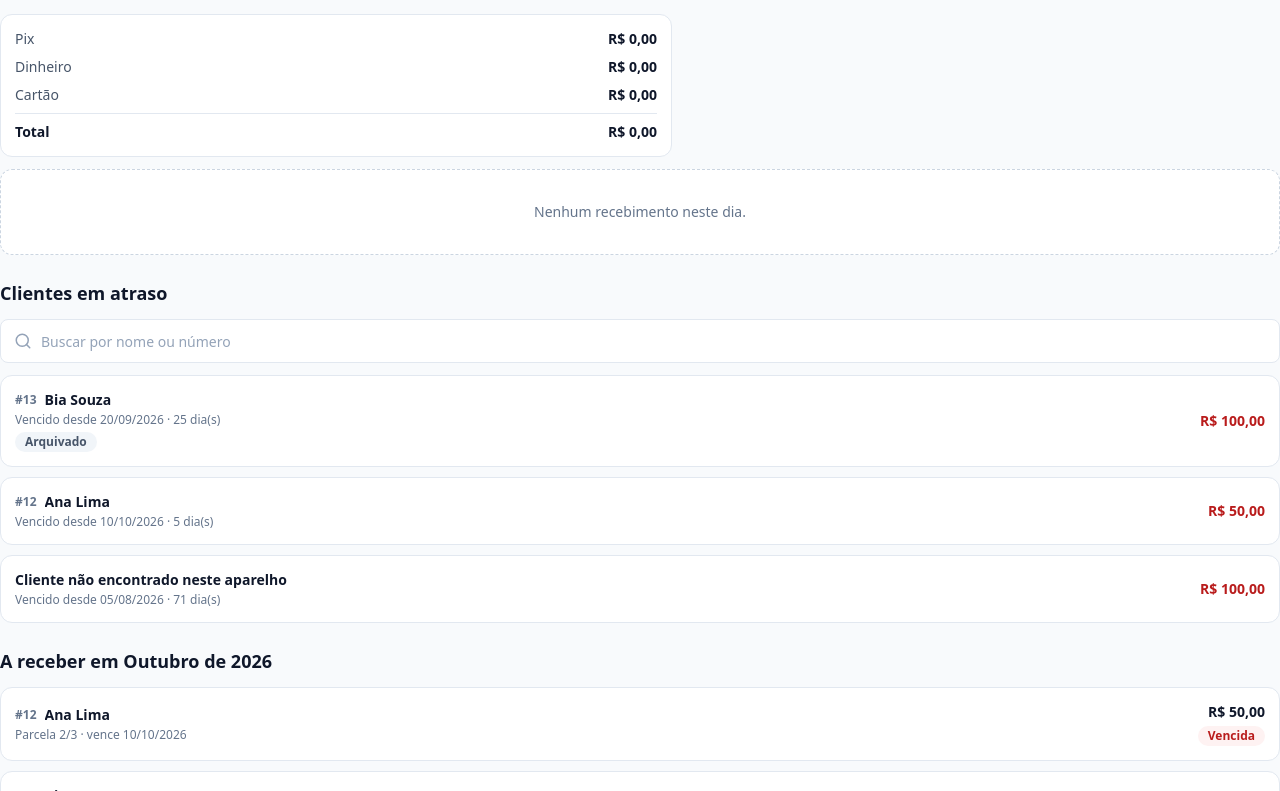
Test case: FinanceiroPage — busca › casa pelo número, e cada lista diz quando a busca não achou nada nela
This screenshot has width=1280, height=791.
(page scrolled)
Step 1. Type "14" into the search field labelled "Buscar por nome ou número" → {"x": 640, "y": 341}, box x1=0 y1=319 x2=1279 y2=363
(page scrolled)
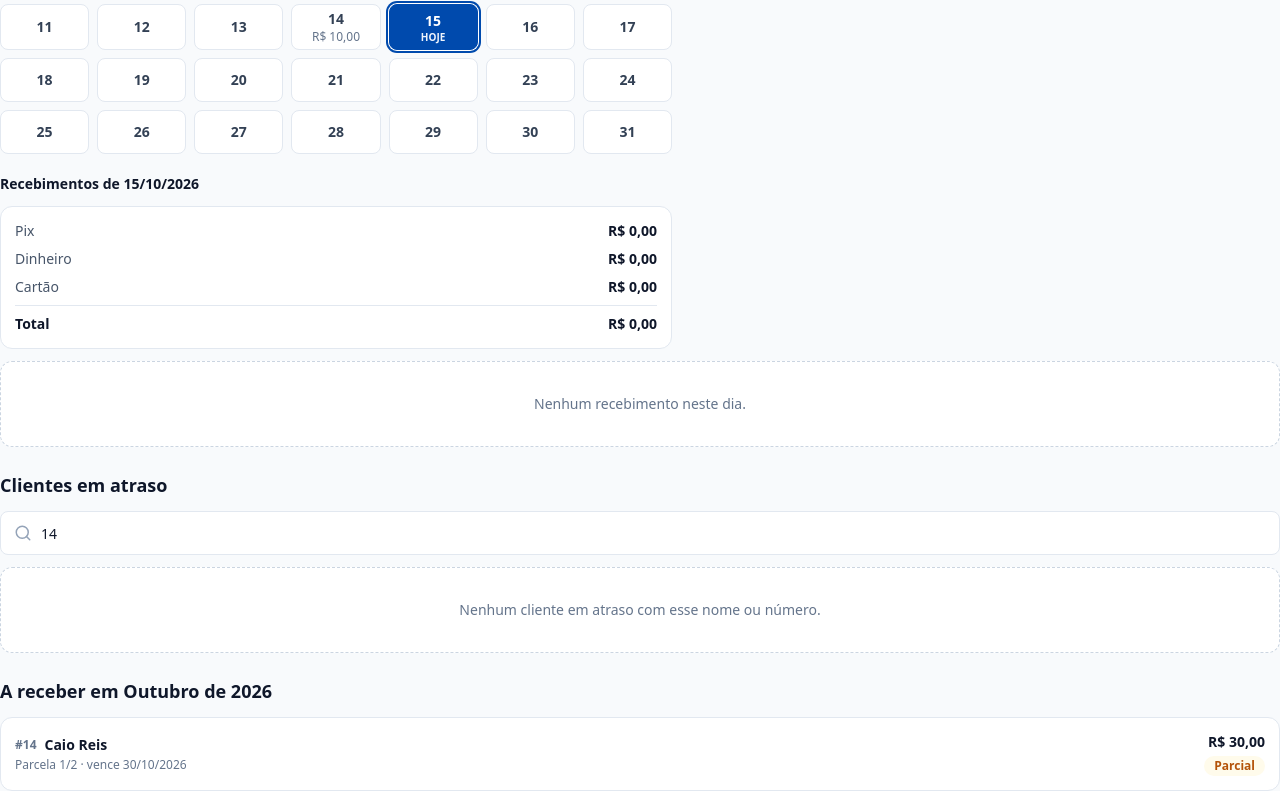
Expected: the list item shows "Caio Reis", x1=0 y1=717 x2=1279 y2=790
Expected: the text "Nenhum cliente em atraso com esse nome ou número." is shown, x1=0 y1=567 x2=1279 y2=653
Expected: the number of list items is 1, x1=0 y1=717 x2=1279 y2=790
